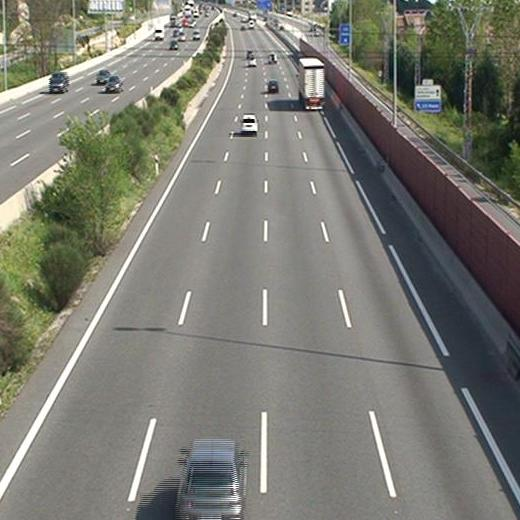car: (176, 440, 245, 520), (240, 116, 258, 136), (266, 79, 280, 93), (247, 56, 258, 66)
truck: (297, 57, 326, 111)
